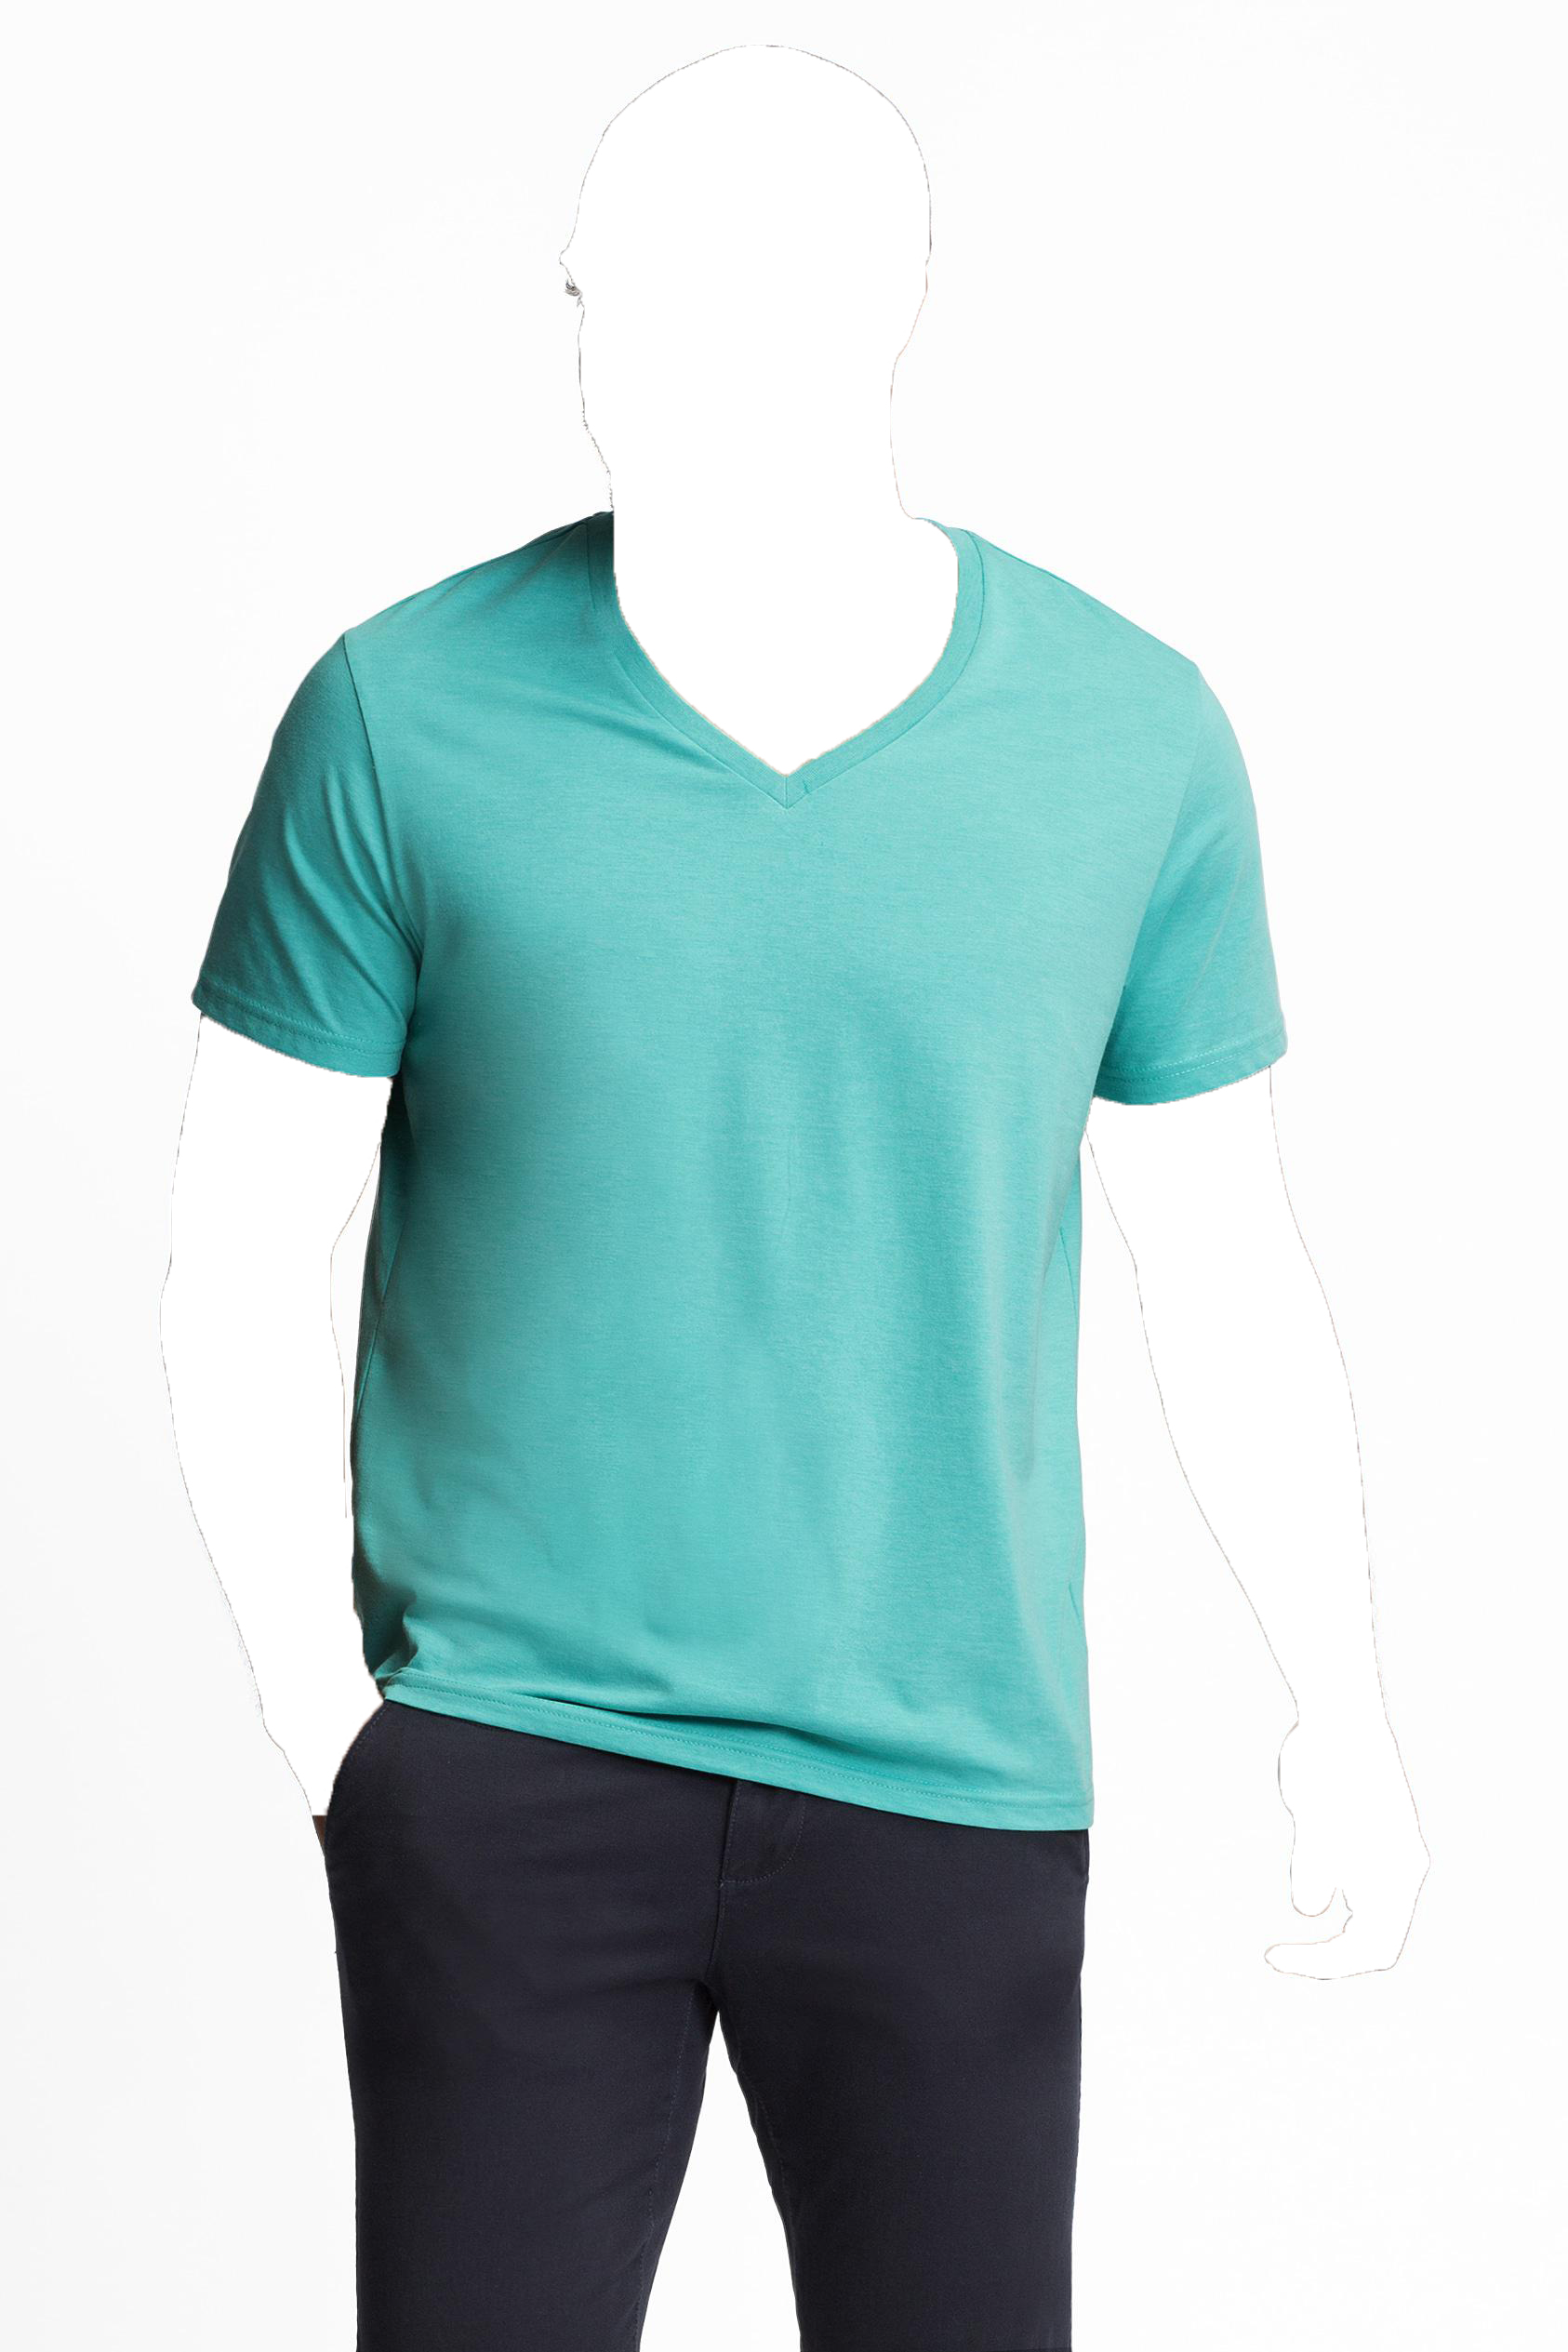teeshirt: (196, 492, 1314, 1881)
